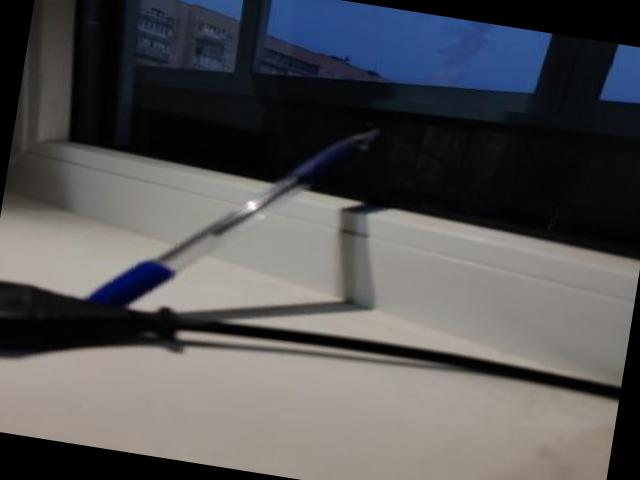PEN: (68, 97, 397, 336)
